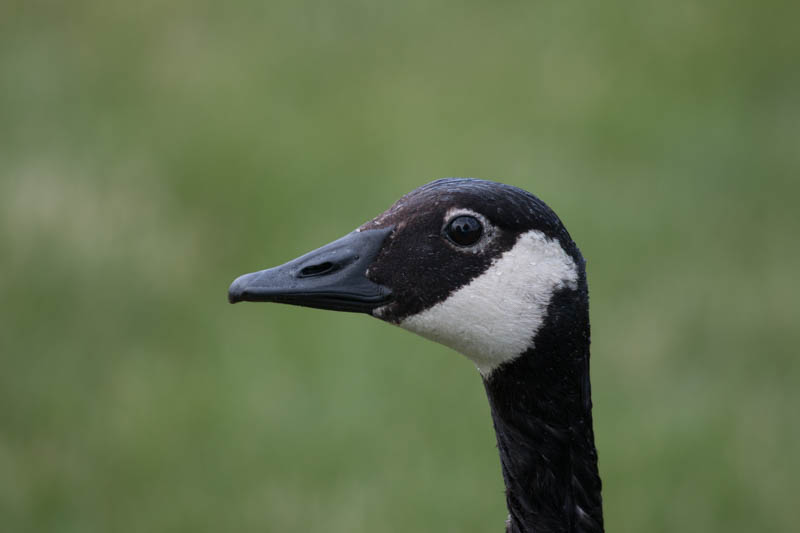goose-head: (226, 177, 591, 379)
